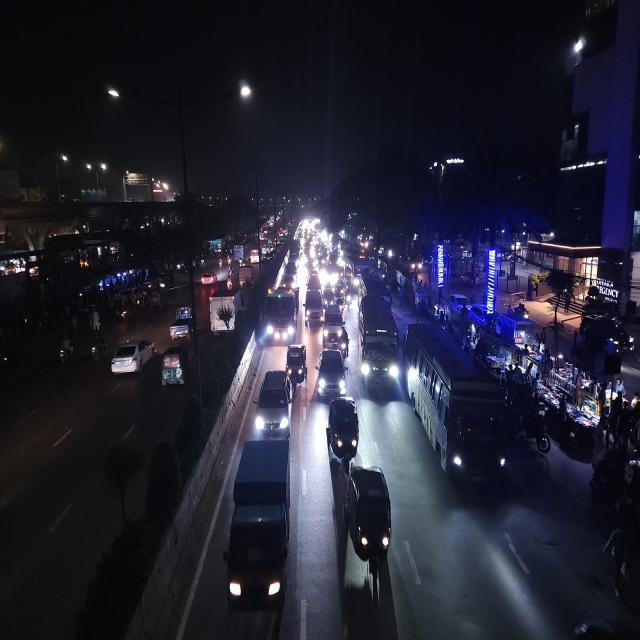bus: (408, 322, 509, 494), (357, 293, 401, 398), (570, 0, 625, 59), (234, 242, 246, 264)
car: (253, 365, 294, 437), (110, 334, 156, 382), (315, 344, 344, 401), (322, 304, 344, 346), (303, 288, 324, 329), (200, 269, 218, 285), (281, 274, 299, 290)
cng: (340, 458, 396, 577), (326, 393, 360, 468), (160, 338, 192, 393), (286, 340, 308, 390)
motorcycle: (56, 332, 76, 369), (340, 325, 350, 359), (226, 266, 234, 286)
pickup_van: (168, 305, 195, 340)
truck: (225, 436, 296, 621), (205, 283, 245, 341), (263, 283, 299, 346)
